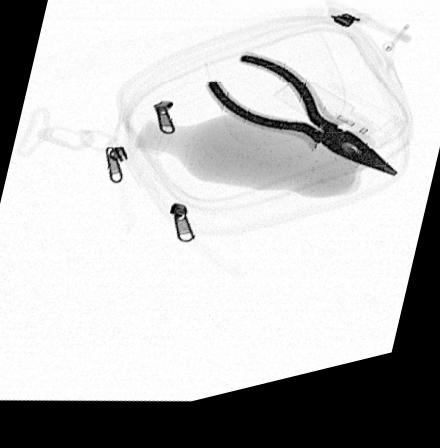Pliers: (200, 62, 403, 197)
